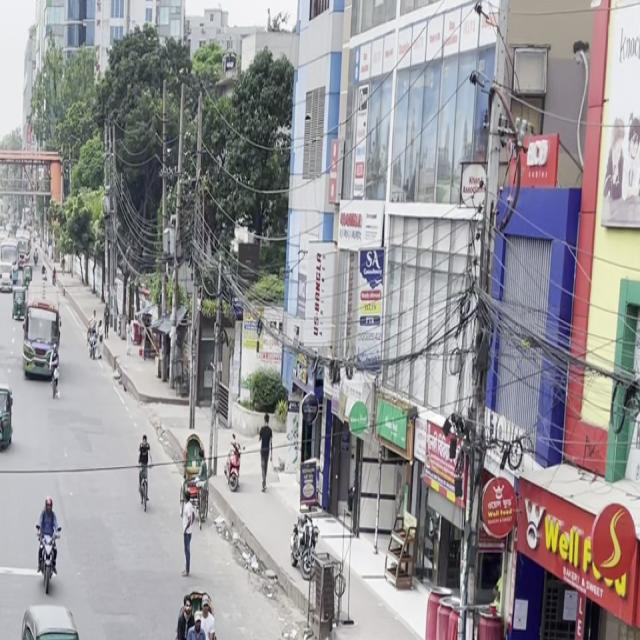bicycle: (132, 431, 154, 516)
bus: (21, 303, 67, 387)
motorbike: (30, 488, 67, 600)
rickshaw: (11, 600, 90, 640), (0, 376, 17, 456)
